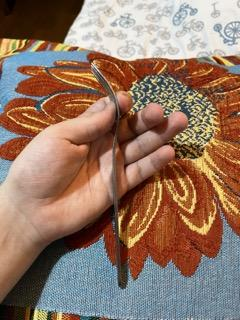fork: (88, 61, 125, 289)
